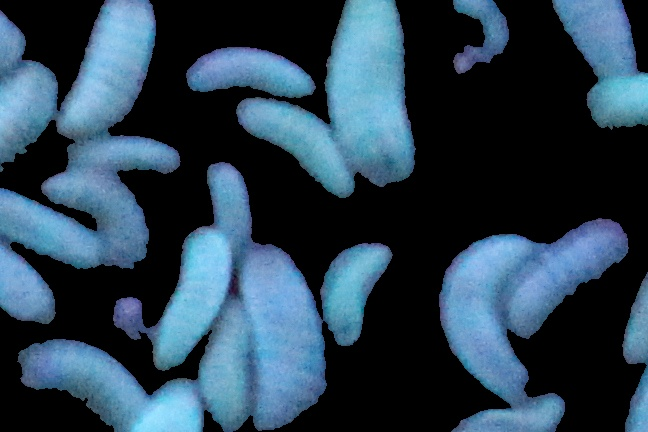larvae: (425, 218, 542, 404), (502, 206, 628, 349), (326, 1, 417, 183), (58, 1, 167, 144), (239, 244, 324, 424), (238, 95, 353, 197), (17, 339, 146, 426), (34, 174, 153, 265), (149, 223, 223, 359), (533, 1, 638, 89), (188, 36, 318, 102), (1, 195, 62, 335), (319, 232, 392, 346), (1, 59, 59, 197), (1, 196, 104, 272), (202, 296, 254, 428), (199, 157, 261, 242), (62, 133, 187, 173), (450, 391, 564, 432)
